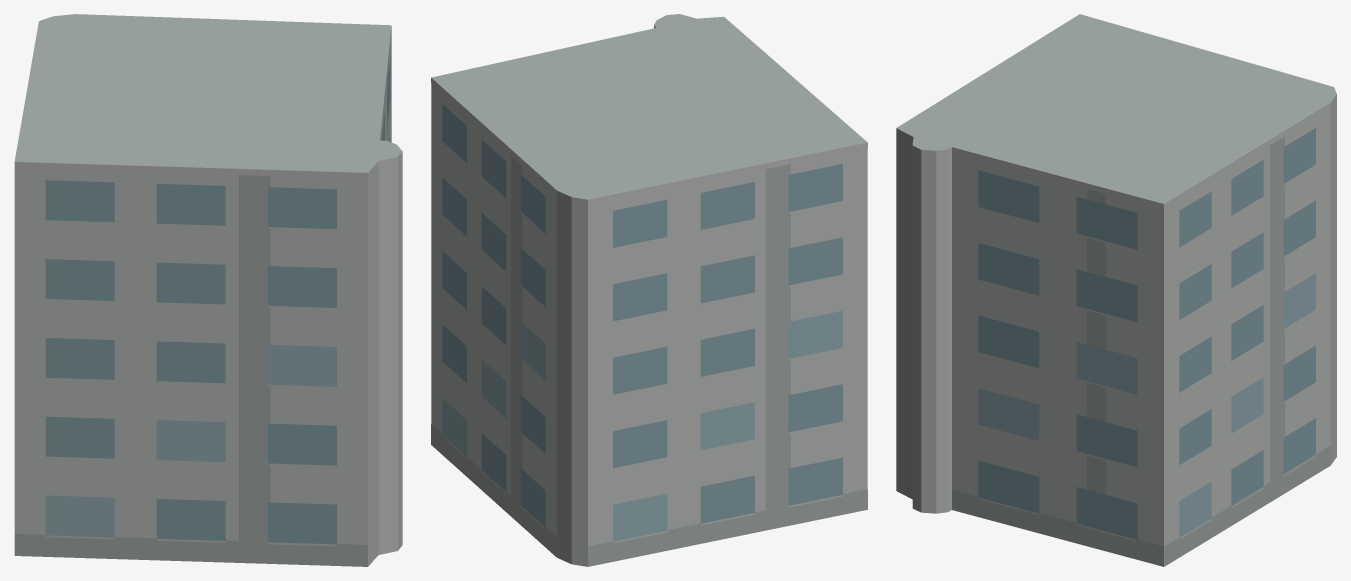
File: survey-upis-32892822.glb
3 renders of one model, left to right at view 1: azimuth 30°, elevation 25°; view 2: azimuth 150°, elevation 25°; view 3: azimuth 270°, elevation 25°, orthographic. The views are drawn at different scales.
Parts seen in each view (by area): view 1: survey-upis-32892822.tmp; view 2: survey-upis-32892822.tmp; view 3: survey-upis-32892822.tmp.
Boxes of the visible parts, x1,y1,x2,y2 form: survey-upis-32892822.tmp: (14, 14, 402, 566); survey-upis-32892822.tmp: (431, 14, 867, 566); survey-upis-32892822.tmp: (896, 14, 1336, 566).
Size of the model in its own units: 17.13 by 15.25 by 16.79.
